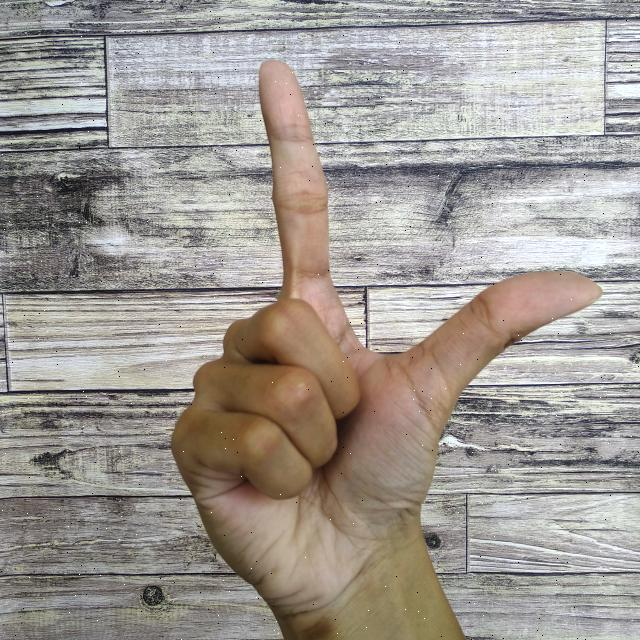L: (168, 54, 611, 640)
